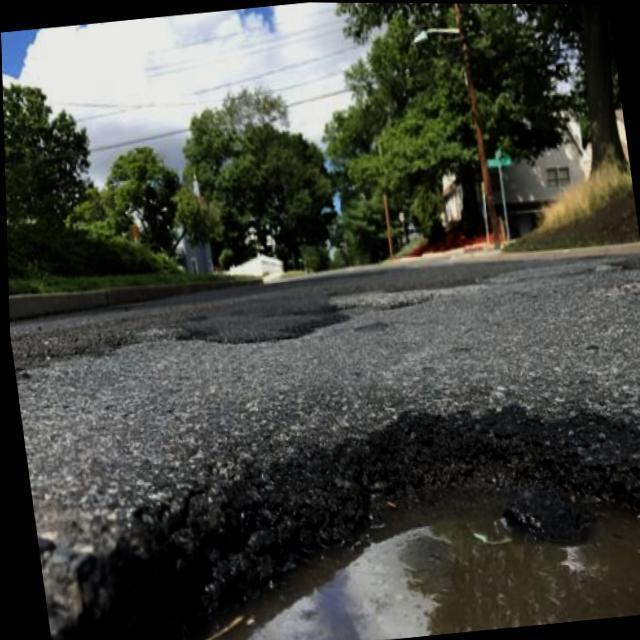Pothole: (54, 386, 640, 640)
